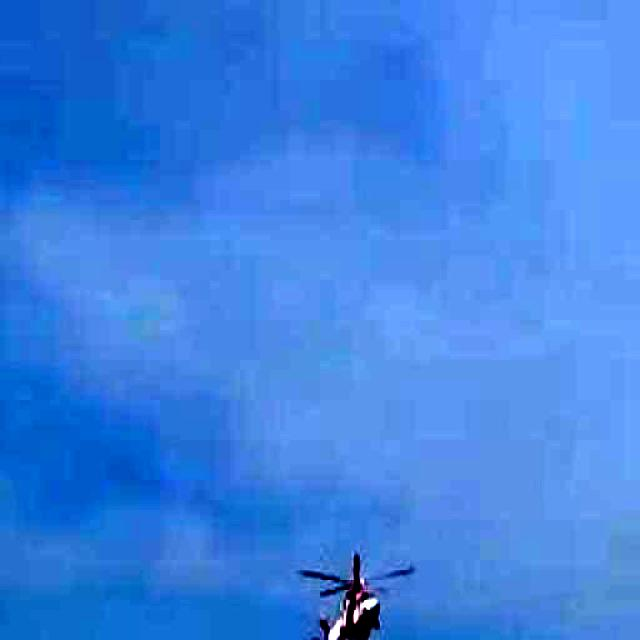drone: (292, 548, 411, 640)
